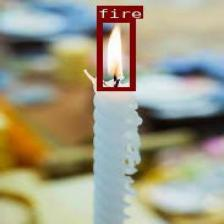fire: (96, 18, 134, 90)
